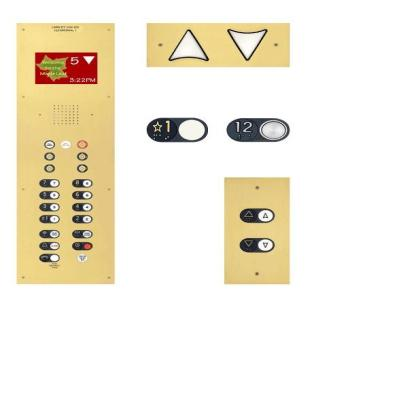12: (223, 115, 290, 142)
2: (70, 213, 92, 223)
3: (38, 201, 60, 211)
4: (70, 202, 92, 211)
5: (38, 189, 60, 199)
6: (70, 190, 92, 199)
7: (37, 178, 60, 188)
8: (70, 178, 92, 187)
alarm: (38, 240, 60, 249)
call: (38, 252, 60, 262)
close: (70, 228, 92, 238)
down: (237, 236, 275, 253)
keyhole: (43, 151, 54, 160), (76, 140, 88, 148), (75, 152, 87, 160), (76, 164, 87, 172), (44, 164, 54, 172)
open: (38, 228, 60, 238)
s1: (144, 115, 212, 143), (38, 212, 60, 222)
stop: (70, 240, 92, 250)
text_blur: (74, 252, 88, 262), (43, 139, 54, 148)
unknown: (60, 140, 71, 148)
up: (237, 206, 274, 223)
